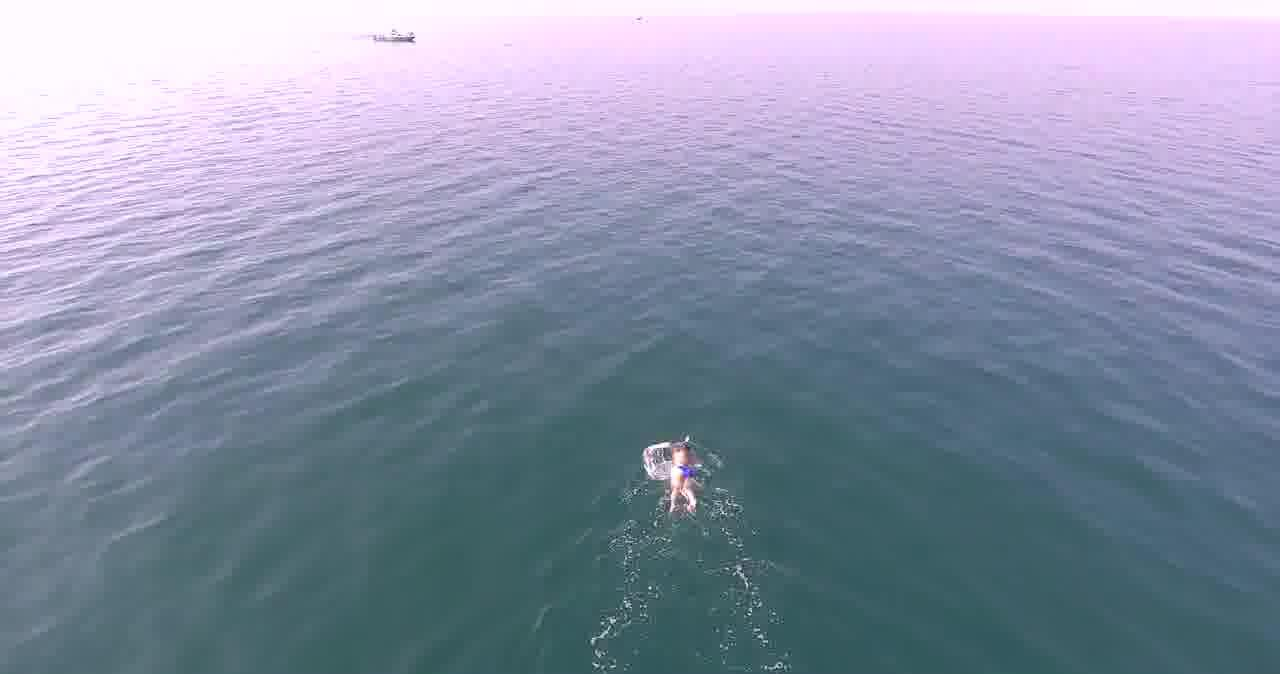human: (653, 436, 701, 522)
